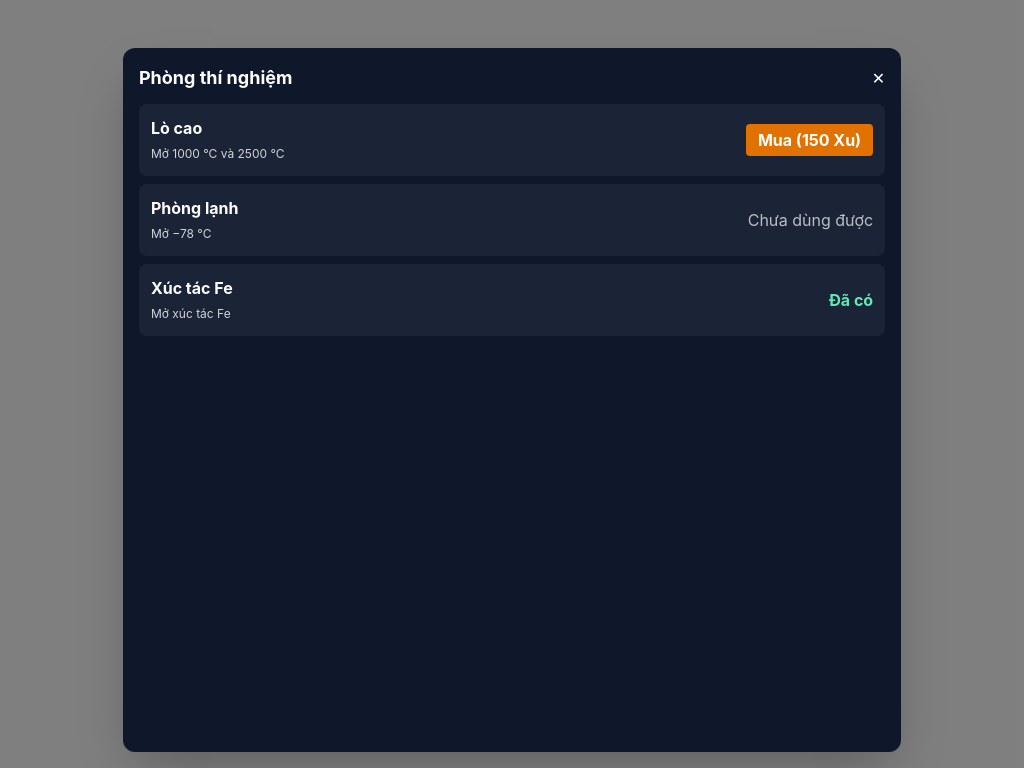
it: refusal LAB_USELESS shows its text
Click the button "Mua (150 Xu)" at (810, 140), box [746, 124, 873, 156]
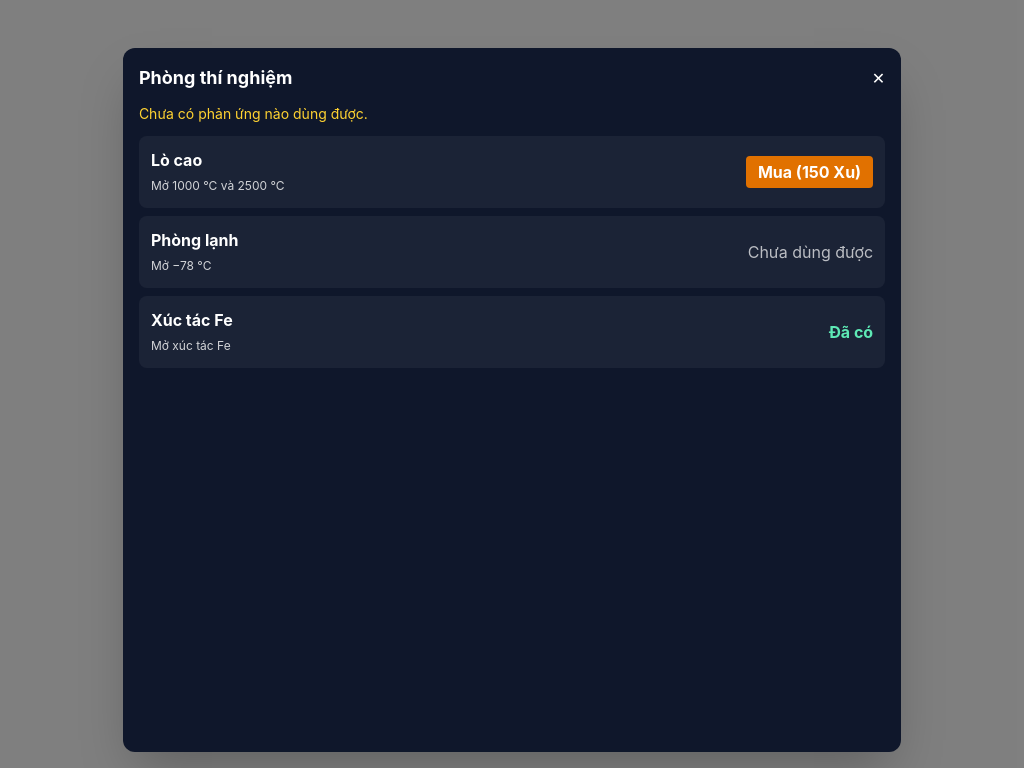
Result: the message reads "Chưa có phản ứng nào dùng được." at [139, 105, 368, 122]
